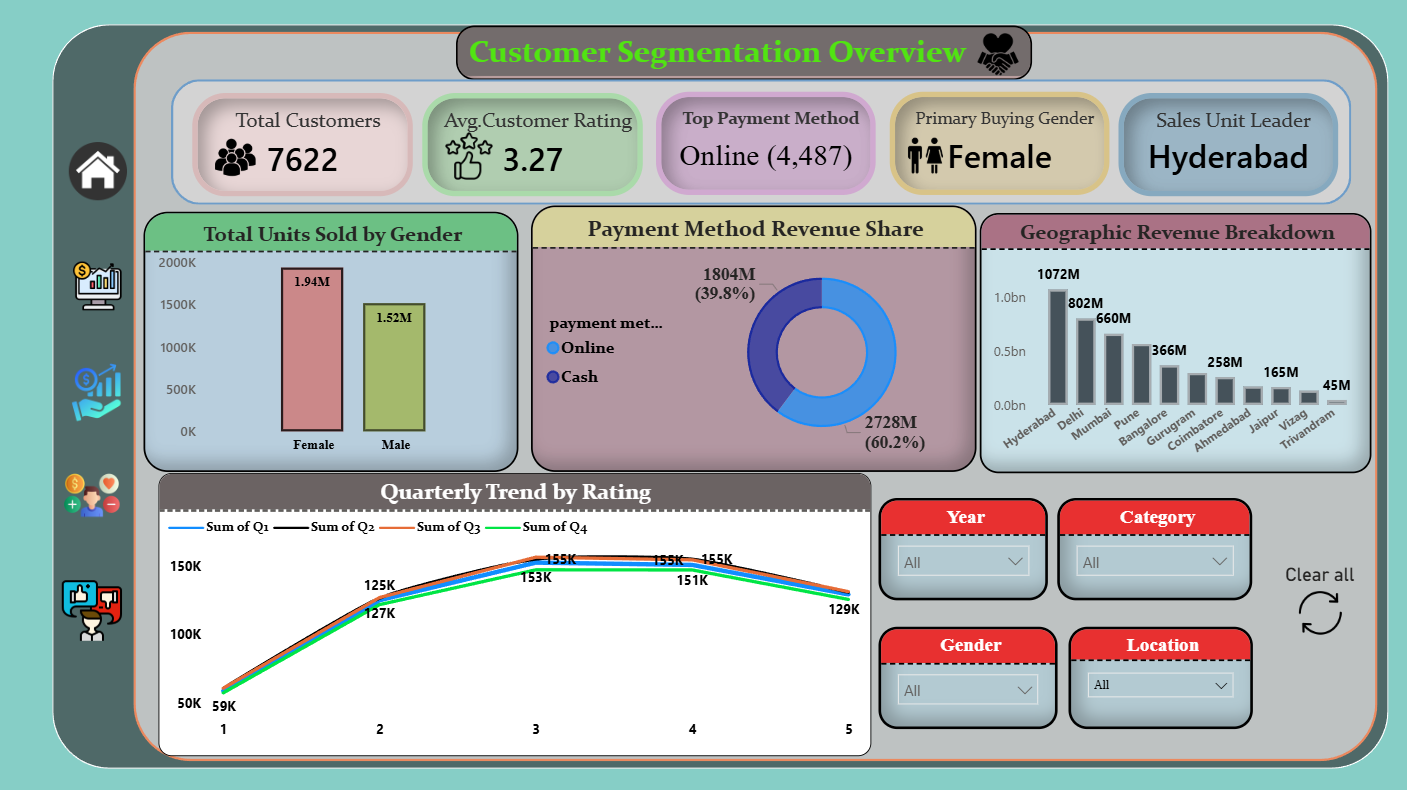

What the dashboard file says about the page in this screenshot:
{"tool":"powerbi","page":{"name":"Customer Overview","canvas":[1280,720],"ordinal":3},"visuals":[{"type":"shape","box":[50.8,23.3,1211.7,675.1],"z":0},{"type":"image","box":[882,24.6,53.7,52.3],"z":1,"group":"g1"},{"type":"shape","box":[124.9,30.2,1128,661.4],"z":1000},{"type":"textbox","title":"Customer Segmentation Overview","box":[416.6,24.7,522.6,49.4],"z":2000},{"type":"shape","box":[159.2,74.1,1070.3,113.9],"z":3000},{"type":"card","title":"Total Customers","fields":{"Values":["Ecommerce_Sales.Total Customers"]},"box":[178.4,86.4,200.3,93.3],"z":4000},{"type":"card","title":"Avg.Customer Rating","fields":{"Values":["Ecommerce_Sales.Average Rating"]},"box":[387,86.4,200.3,93.3],"z":5000},{"type":"card","title":"Top Payment Method","fields":{"Values":["Ecommerce_Sales.Top Payment Method"]},"box":[598.3,85.1,199,93.3],"z":6000},{"type":"card","title":"Primary Buying Gender","fields":{"Values":["Ecommerce_Sales.Top Gender"]},"box":[811,85.1,199,93.3],"z":7000},{"type":"card","title":"Sales Unit Leader","fields":{"Values":["Ecommerce_Sales.Top Location"]},"box":[1018.2,86.4,199,93.3],"z":8000},{"type":"group","id":"g1","title":"Group 1","box":[882,24.6,53.7,52.3],"z":9000},{"type":"image","box":[194,120.9,46.3,46.3],"z":10000},{"type":"image","box":[399.9,114.9,58.2,58.2],"z":11000},{"type":"image","box":[808.8,120.9,67.1,43.3],"z":12000},{"type":"columnChart","title":"Total Units Sold by Gender","fields":{"Y":["Ecommerce_Sales.Total Units Sold"],"Category":["Ecommerce_Sales.gender"],"Series":["Ecommerce_Sales.gender"]},"box":[134.3,194,340.2,235.8],"z":13000},{"type":"donutChart","title":"Payment Method Revenue Share","fields":{"Category":["Ecommerce_Sales.payment_method"],"Y":["Ecommerce_Sales.Total Revenue"]},"box":[485,188,404.4,241.7],"z":14000},{"type":"columnChart","title":"Geographic Revenue Breakdown","fields":{"Category":["Ecommerce_Sales.location"],"Y":["Ecommerce_Sales.Total Revenue"]},"box":[892.3,195.5,355.1,235.8],"z":15000},{"type":"lineChart","title":"Quarterly Trend by Rating","fields":{"Category":["Ecommerce_Sales.rating"],"Y":["Sum(Ecommerce_Sales.Q1)","Sum(Ecommerce_Sales.Q2)","Sum(Ecommerce_Sales.Q3)","Sum(Ecommerce_Sales.Q4)"]},"box":[147.7,431.2,646.1,256.7],"z":16000},{"type":"slicer","title":"Category","fields":{"Values":["Ecommerce_Sales.category"]},"box":[962.4,452.9,177.1,92.9],"z":17000},{"type":"slicer","title":"Location","fields":{"Values":["Ecommerce_Sales.location"]},"box":[972.6,570.5,166.9,92.9],"z":18000},{"type":"slicer","title":"Gender","fields":{"Values":["Ecommerce_Sales.gender"]},"box":[799.8,570.5,162.6,92.9],"z":19000},{"type":"image","box":[61,126.3,62.4,62.4],"z":20000},{"type":"image","box":[49.4,233.7,84.2,55.2],"z":21000},{"type":"image","box":[52.3,521.1,69.7,68.2],"z":22000},{"type":"image","box":[52.3,421,69.7,61],"z":23000},{"type":"image","box":[58.1,326.6,66.8,62.4],"z":24000},{"type":"slicer","title":"Year","fields":{"Values":["Ecommerce_Sales.year"]},"box":[799.8,452.9,153.9,92.9],"z":25000},{"type":"image","title":"Clear all","box":[1164.2,512.4,74,71.1],"z":26000}]}

Visuals, with their boxes in screenshot pixels (x1, y1, x2, y2), scaled from the page's 1280x720 canvas onto the 1407x790 screenshot:
shape: bbox=(56, 26, 1388, 766)
image: bbox=(970, 27, 1029, 84)
shape: bbox=(137, 33, 1377, 759)
"Customer Segmentation Overview" textbox: bbox=(458, 27, 1032, 81)
shape: bbox=(175, 81, 1351, 206)
"Total Customers" card: bbox=(196, 95, 416, 197)
"Avg.Customer Rating" card: bbox=(425, 95, 646, 197)
"Top Payment Method" card: bbox=(658, 93, 876, 196)
"Primary Buying Gender" card: bbox=(891, 93, 1110, 196)
"Sales Unit Leader" card: bbox=(1119, 95, 1338, 197)
"Group 1" group: bbox=(970, 27, 1029, 84)
image: bbox=(213, 133, 264, 183)
image: bbox=(440, 126, 504, 190)
image: bbox=(889, 133, 963, 180)
"Total Units Sold by Gender" columnChart: bbox=(148, 213, 522, 472)
"Payment Method Revenue Share" donutChart: bbox=(533, 206, 978, 471)
"Geographic Revenue Breakdown" columnChart: bbox=(981, 215, 1371, 473)
"Quarterly Trend by Rating" lineChart: bbox=(162, 473, 873, 755)
"Category" slicer: bbox=(1058, 497, 1253, 599)
"Location" slicer: bbox=(1069, 626, 1253, 728)
"Gender" slicer: bbox=(879, 626, 1058, 728)
image: bbox=(67, 139, 136, 207)
image: bbox=(54, 256, 147, 317)
image: bbox=(57, 572, 134, 647)
image: bbox=(57, 462, 134, 529)
image: bbox=(64, 358, 137, 427)
"Year" slicer: bbox=(879, 497, 1048, 599)
"Clear all" image: bbox=(1280, 562, 1361, 640)
